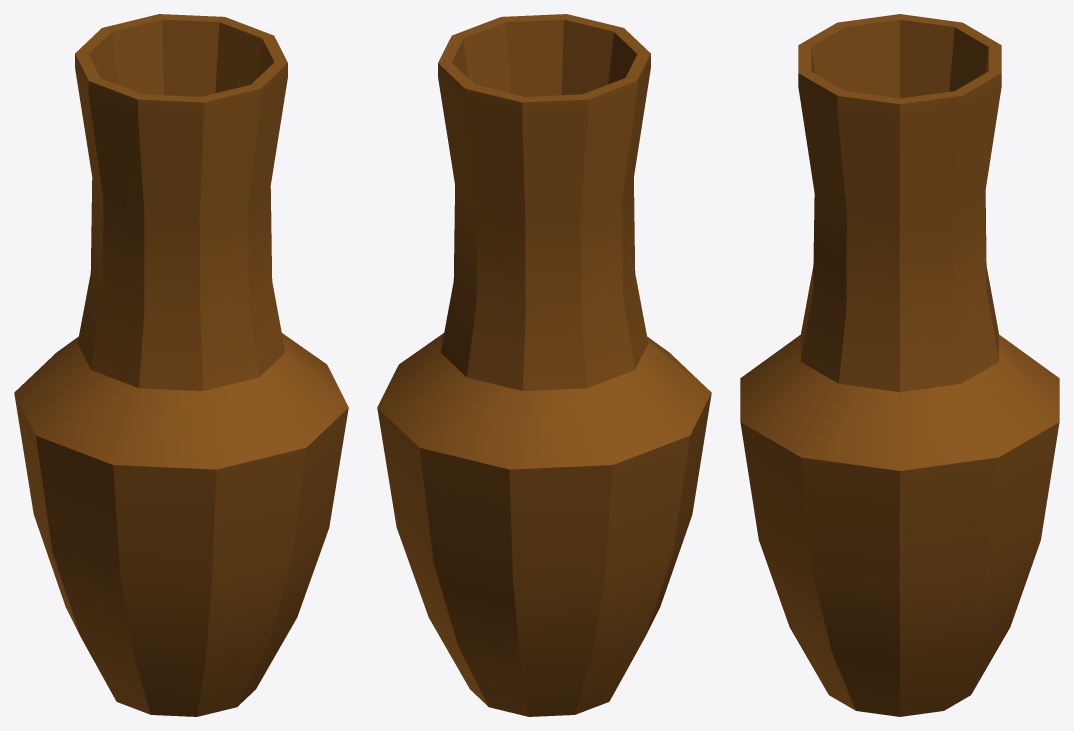
Rendered from SM_pottery_021.fbx.
3 views of the same model, side by side, from view 1: azimuth 30°, elevation 25°; view 2: azimuth 150°, elevation 25°; view 3: azimuth 270°, elevation 25° (orthographic).
Parts seen in each view (by area): view 1: Cylinder017; view 2: Cylinder017; view 3: Cylinder017.
Boxes of the visible parts, left/top/right/bottom form: Cylinder017: left=14, top=14, right=348, bottom=716; Cylinder017: left=377, top=14, right=711, bottom=716; Cylinder017: left=740, top=14, right=1059, bottom=716.
Bounding box in the file's own units: 14.83 × 14.11 × 30.54.
